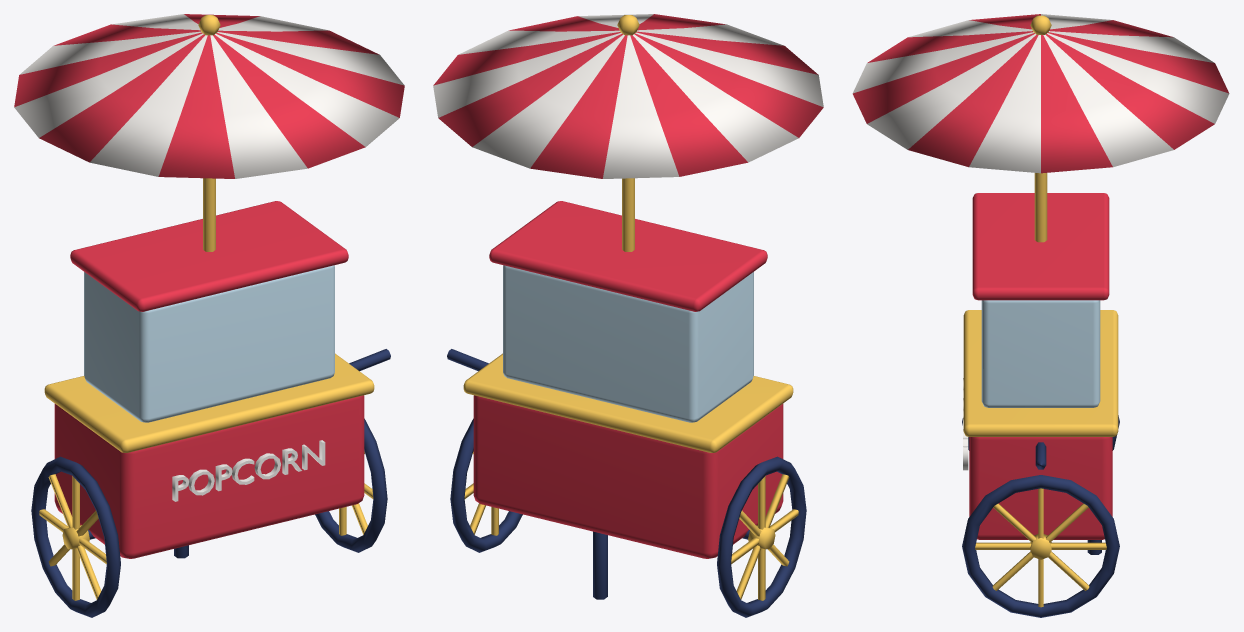
Rendered from sky_popcorn.glb.
3 renders of one model, left to right at view 1: azimuth 30°, elevation 25°; view 2: azimuth 150°, elevation 25°; view 3: azimuth 270°, elevation 25°, orthographic. The views are drawn at different scales.
Parts seen in each view (by area): view 1: Popcorn; view 2: Popcorn; view 3: Popcorn.
Part boxes in pixels (x1,y1,x2,y2): Popcorn: (14,14,404,617); Popcorn: (433,14,823,617); Popcorn: (852,14,1229,617).
Bounding box in the file's own units: 2.15 × 3.32 × 2.1.
